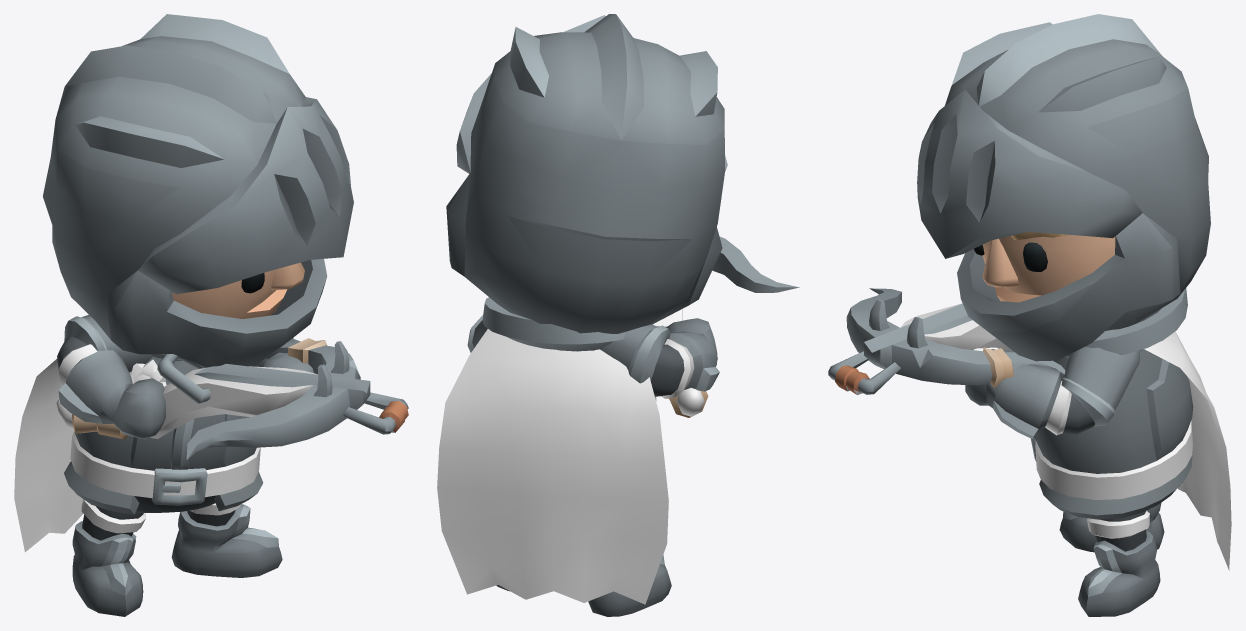
Rendered from soldier.glb.
3 renders of one model, left to right at view 1: azimuth 30°, elevation 25°; view 2: azimuth 150°, elevation 25°; view 3: azimuth 270°, elevation 25°, orthographic. The views are drawn at different scales.
Visible parts, largest first — view 1: soldier; view 2: soldier; view 3: soldier.
Boxes of the visible parts, left/top/right/bottom form: soldier: left=14, top=14, right=408, bottom=616; soldier: left=437, top=14, right=799, bottom=616; soldier: left=828, top=14, right=1231, bottom=616.
Size of the model in its own units: 0.832 by 1.7 by 1.16.
3 materials, 2 textured.
